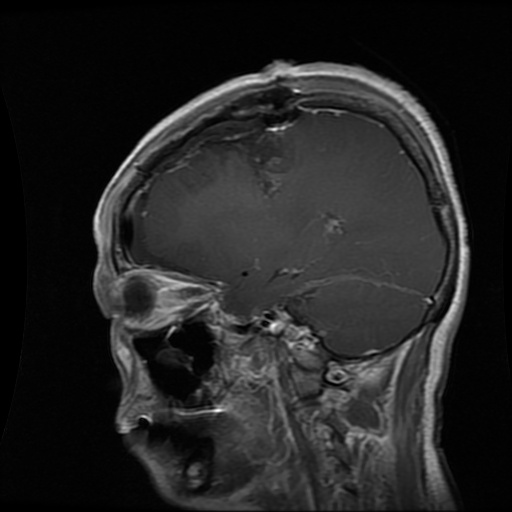glioma: (189, 115, 300, 196)
